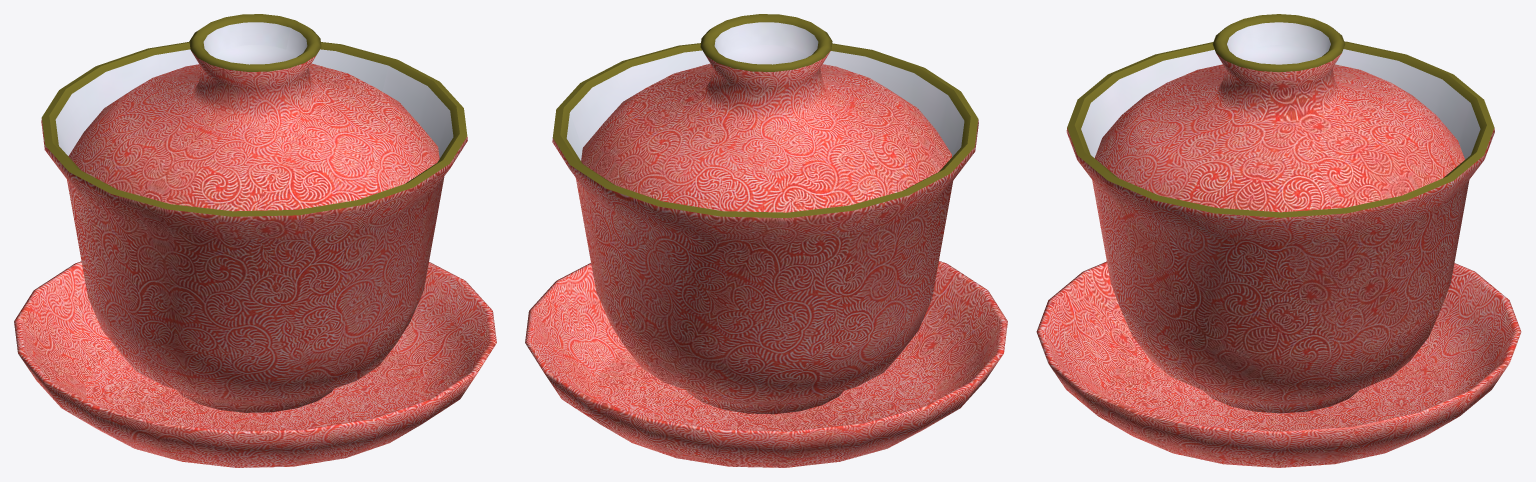
The model's file is wan05_03.FBX.
The picture shows the model from 3 angles, left to right: view 1: azimuth 30°, elevation 25°; view 2: azimuth 150°, elevation 25°; view 3: azimuth 270°, elevation 25°; orthographic projection.
Parts seen in each view (by area): view 1: pCylinder011, pCylinder012, pCylinder013; view 2: pCylinder011, pCylinder012, pCylinder013; view 3: pCylinder011, pCylinder012, pCylinder013.
Part boxes in pixels (x1,y1,x2,y2): pCylinder011: (41,41,467,412); pCylinder012: (68,14,439,211); pCylinder013: (14,261,496,467); pCylinder011: (552,43,978,414); pCylinder012: (581,14,951,212); pCylinder013: (525,261,1007,467); pCylinder011: (1066,41,1494,413); pCylinder012: (1095,14,1464,212); pCylinder013: (1036,261,1521,467).
Bounding box in the file's own units: 119 × 101 × 119.
